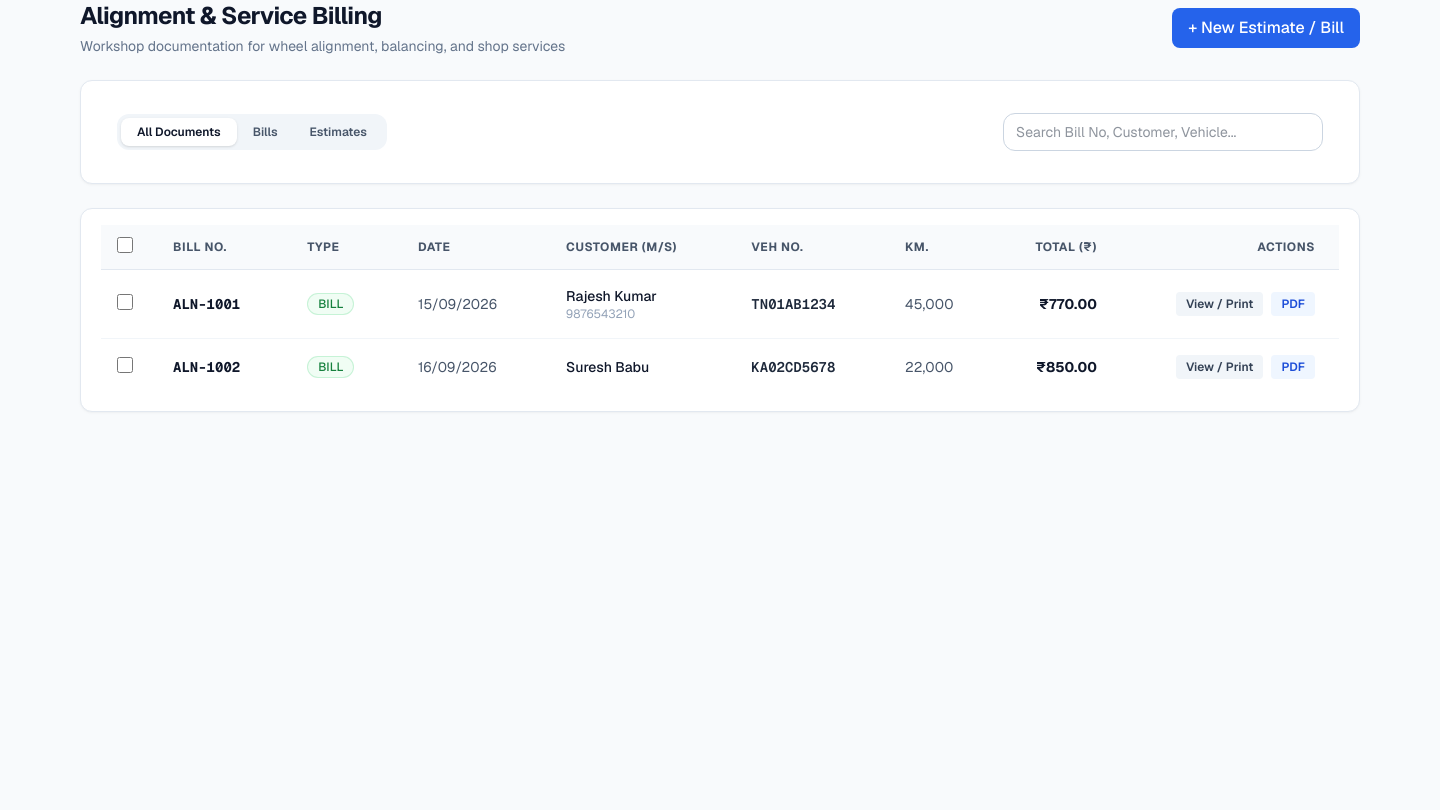
Test: AlignmentBillingPage History & Permanent Delete Component Tests › opens confirmation modal on Delete Selected and cancels safely
Expected: the link "ALN-1001" is shown, [173,295,240,313]
Click the checkbox named "Select bill ALN-1001".
click(125, 302)  # box [117,294,133,310]
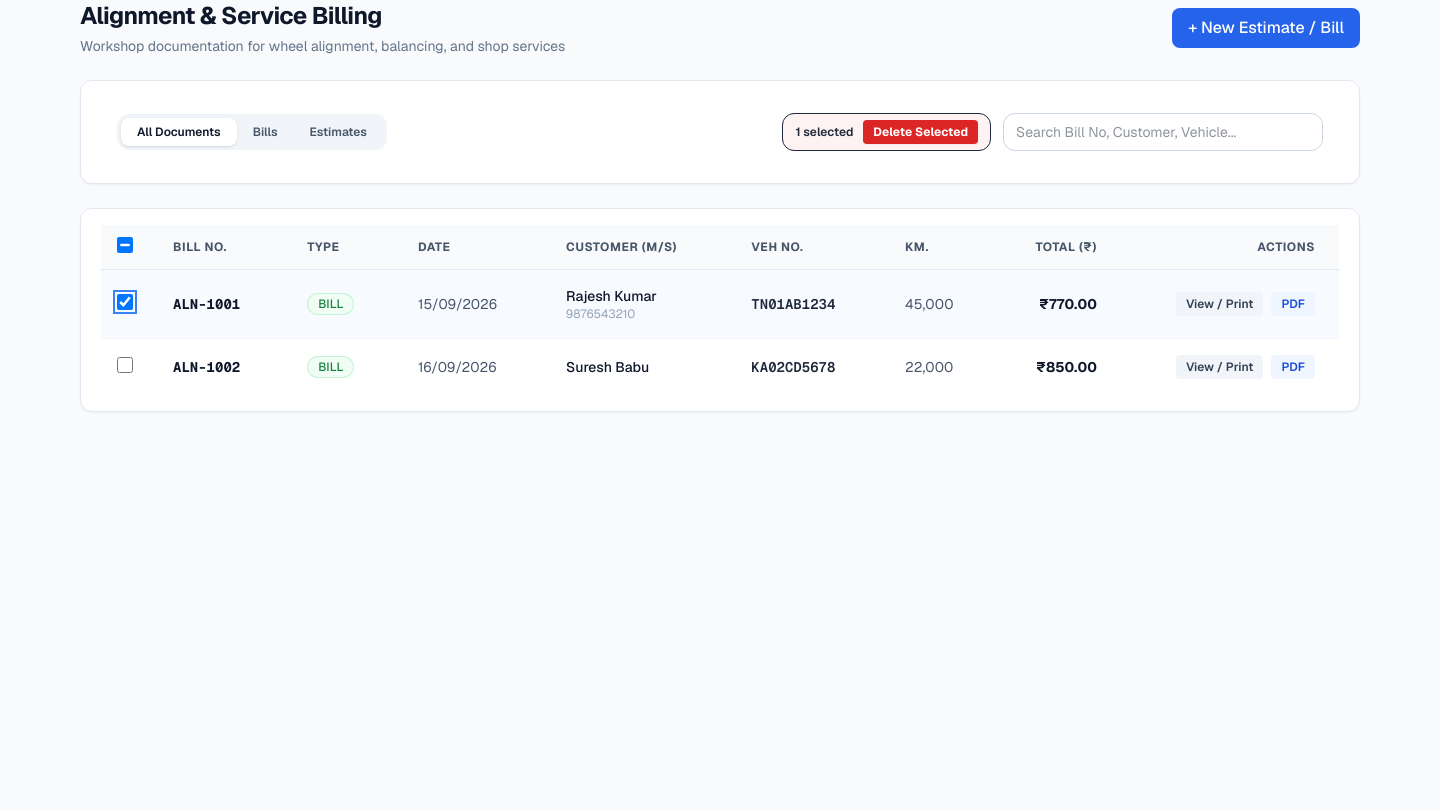
Click the button "Delete Selected".
click(921, 132)  # box [863,120,978,144]
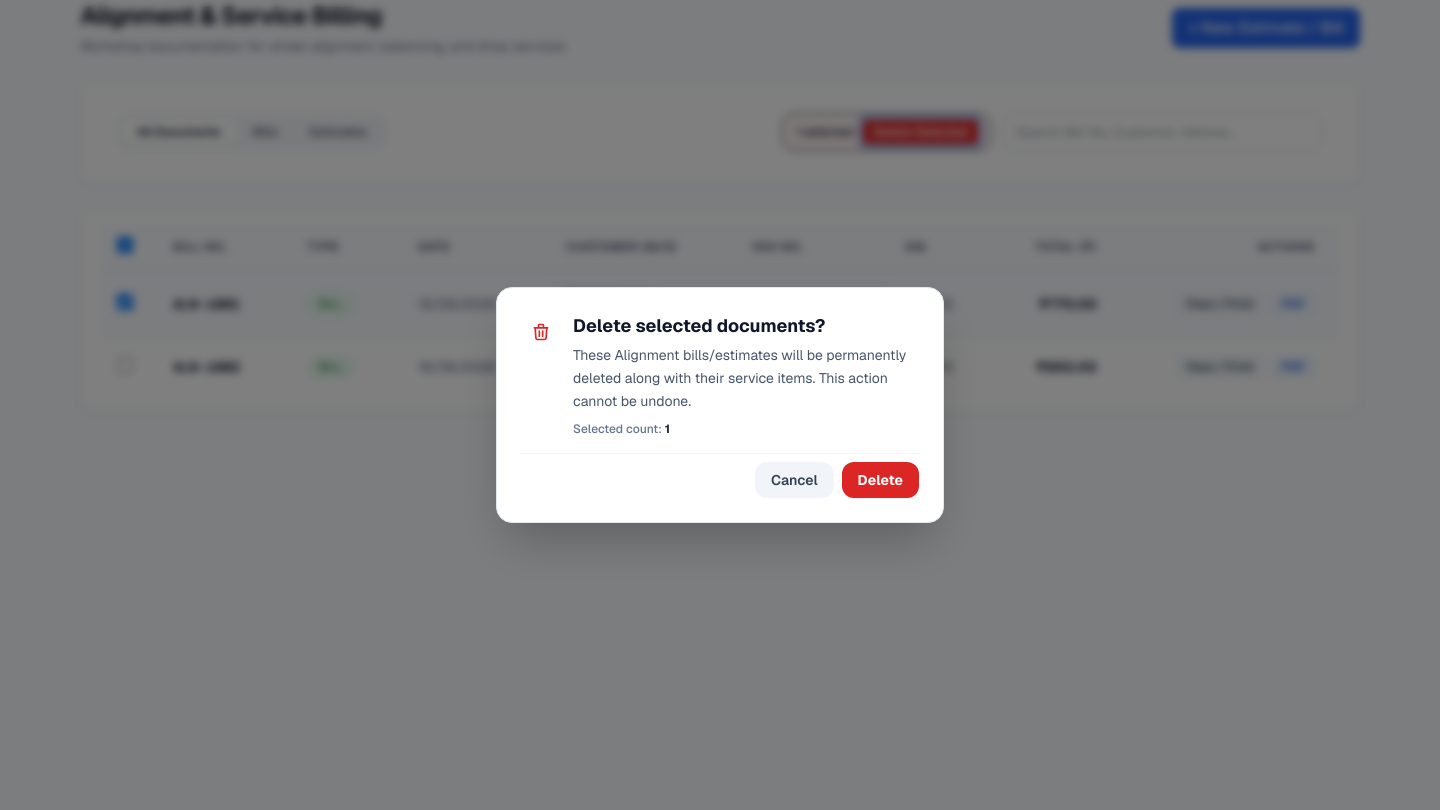
Expected: the heading "Delete selected documents?" is shown, [573,314,826,337]
Expected: the text "These Alignment bills/estimates will be permanently deleted along with their service items" is shown, [573,346,906,410]
Note: Click Cancel
Click the button "Cancel".
click(794, 480)  # box [755,462,834,498]
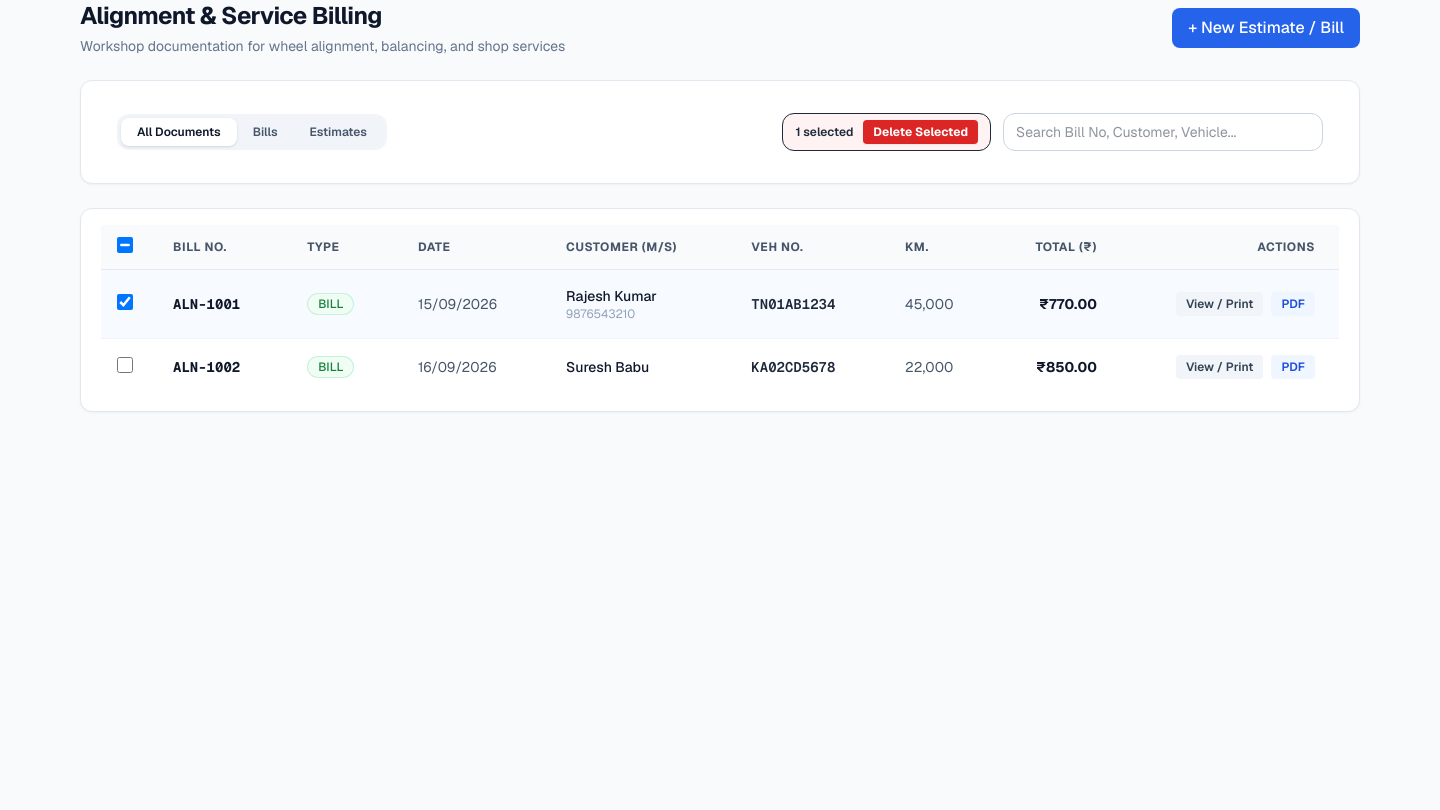
Expected: the heading "Delete selected documents?" is gone
